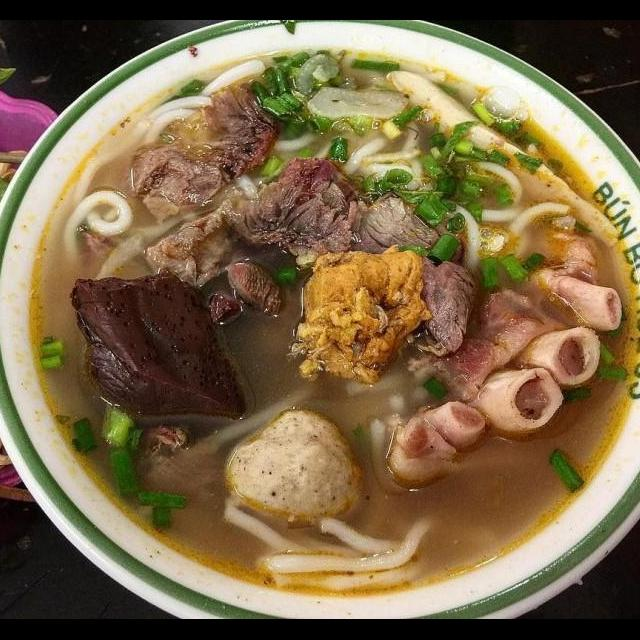bun: (216, 488, 444, 598), (428, 148, 574, 276), (266, 104, 434, 200), (134, 50, 268, 152), (50, 156, 148, 278)
bun bo: (0, 60, 640, 598)
thit bo: (130, 152, 484, 364), (123, 58, 310, 230), (430, 284, 568, 412)
